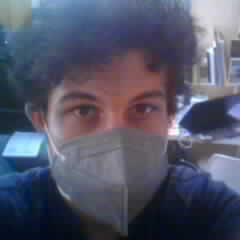with_mask: (42, 40, 171, 222)
